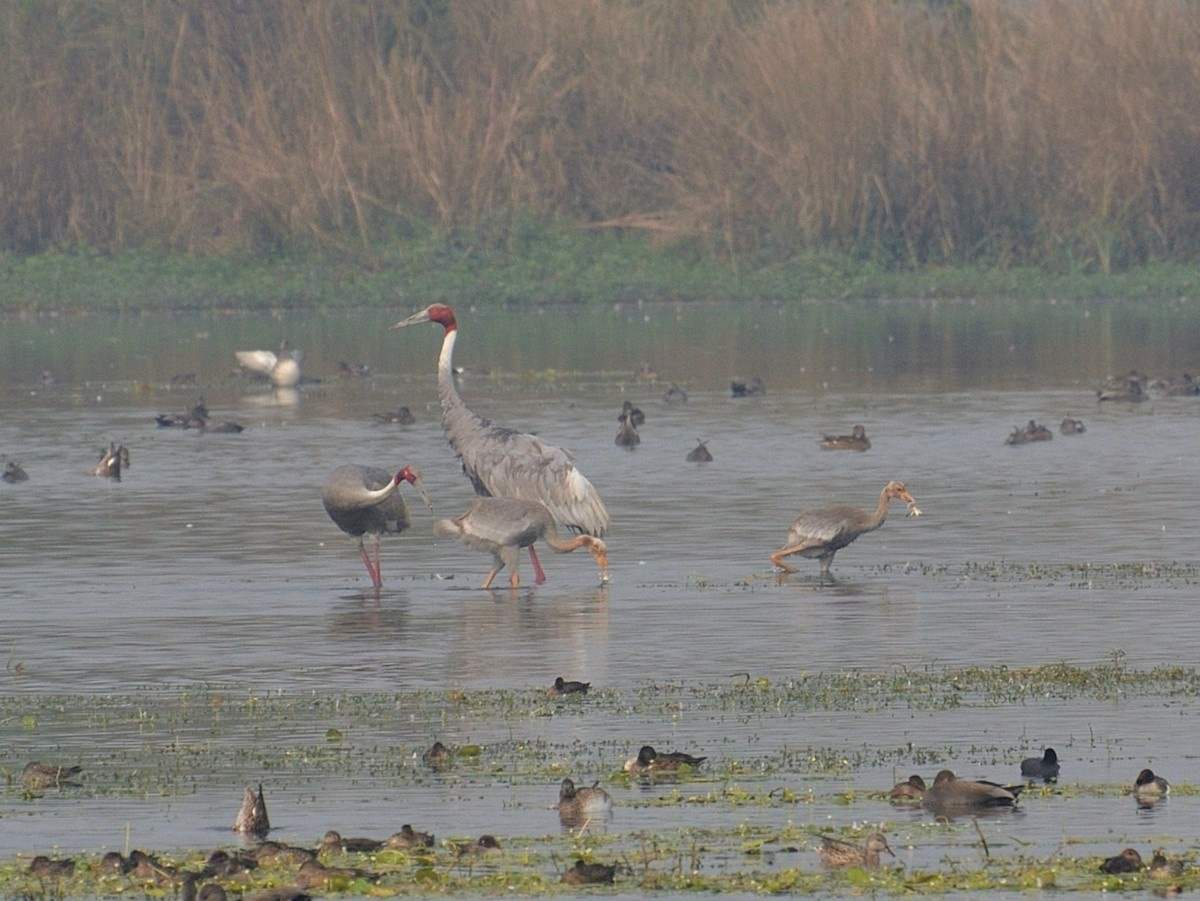crane: (395, 292, 602, 499), (754, 474, 922, 589), (446, 495, 622, 598), (326, 460, 432, 566)
